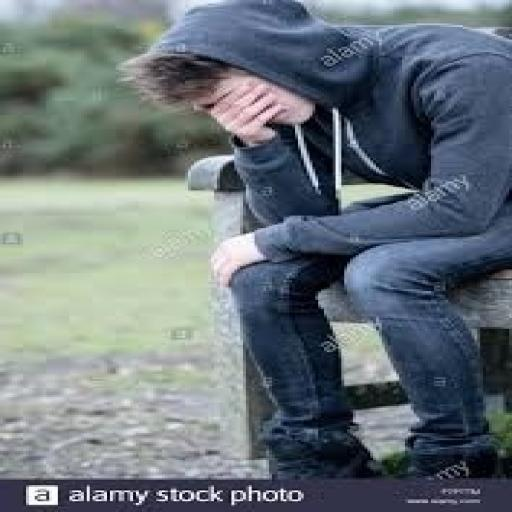sitting: (119, 0, 509, 480)
